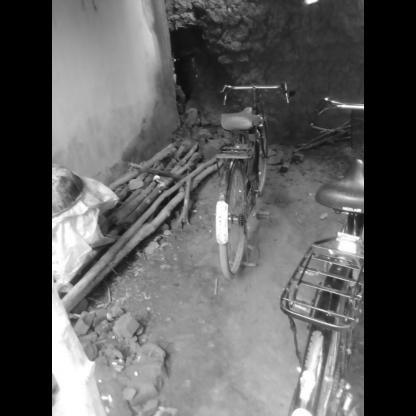Bicycle: (265, 87, 363, 416), (188, 80, 300, 297)
